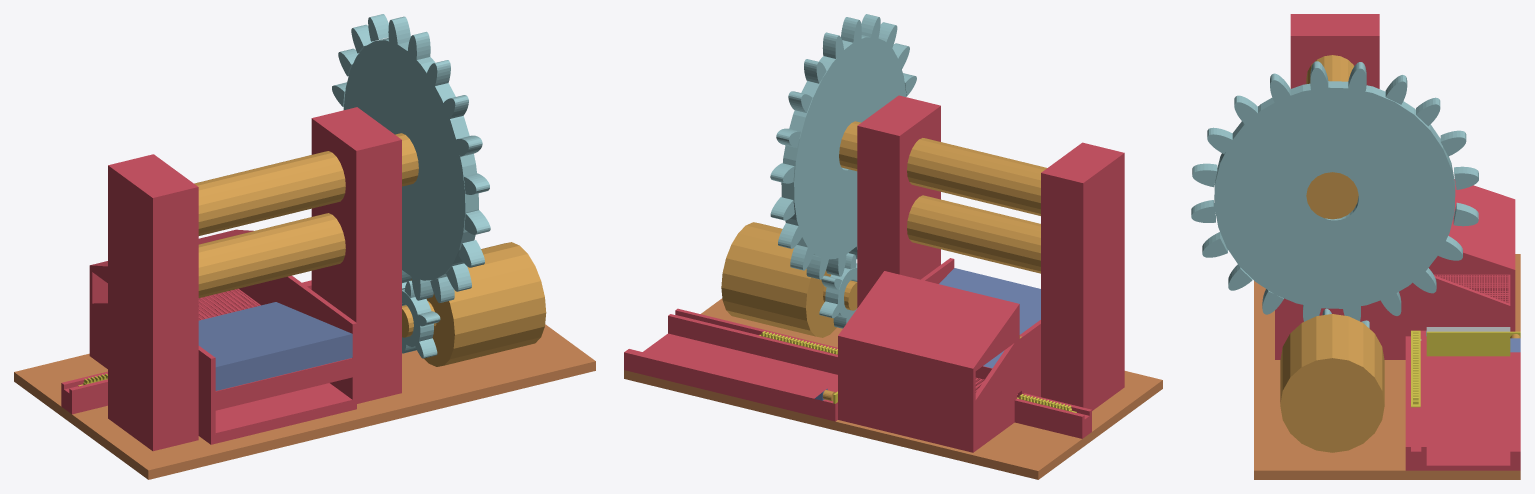
File: Ingenious Tumelo-Jofo.glb
3 renders of one model, left to right at view 1: azimuth 30°, elevation 25°; view 2: azimuth 150°, elevation 25°; view 3: azimuth 270°, elevation 25°, orthographic. The views are drawn at different scales.
Parts seen in each view (by area): view 1: Mesh_Mesh_head_geo.001_lambert2SG.001; view 2: Mesh_Mesh_head_geo.001_lambert2SG.001; view 3: Mesh_Mesh_head_geo.001_lambert2SG.001.
Boxes of the visible parts, <box> form: Mesh_Mesh_head_geo.001_lambert2SG.001: <box>14,14,595,479</box>; Mesh_Mesh_head_geo.001_lambert2SG.001: <box>624,14,1162,479</box>; Mesh_Mesh_head_geo.001_lambert2SG.001: <box>1191,14,1520,479</box>.
Bounding box in the file's own units: 98 × 73 × 63.
